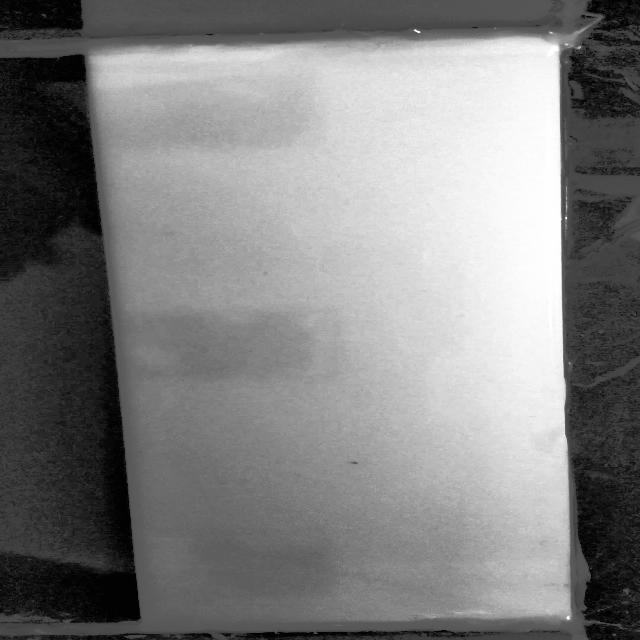shrimp: (338, 456, 374, 470)
